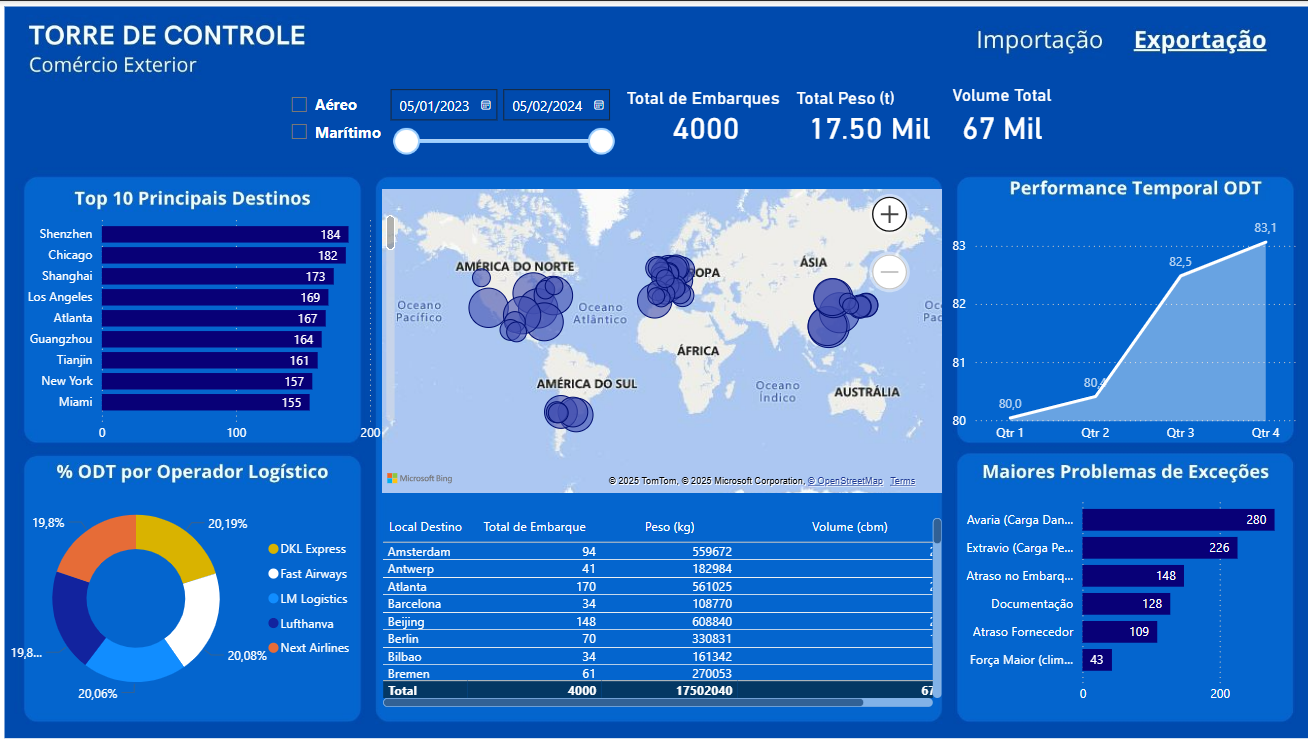

The page's visual inventory and layout, read from the dashboard file:
{"tool":"powerbi","page":{"name":"Exportação","canvas":[1280,720],"ordinal":1},"visuals":[{"type":"image","box":[0,0,1280,720],"z":0},{"type":"tableEx","fields":{"Values":["Histórico Exportação.Local Destino","CountNonNull(Histórico Exportação.No. Invoice)","Sum(Histórico Exportação.Peso (kg))","Sum(Histórico Exportação.Volume (cbm))","Histórico Exportação.% ODT"]},"box":[366.1,496.9,553.3,193.8],"z":1},{"type":"map","fields":{"Category":["Histórico Exportação.Local Destino"],"Size":["Sum(Histórico Exportação.No. Invoice)"]},"box":[367.5,177.5,552.5,305],"z":2},{"type":"barChart","title":"Destino Top 10","fields":{"Y":["Count(Histórico Exportação.No. Invoice)"],"Category":["Histórico Exportação.Local Destino"]},"box":[11.6,195.5,377.7,241.8],"z":3},{"type":"donutChart","fields":{"Category":["Cadastros Operadores Logísticos.Operador Logístico"],"Y":["Histórico Exportação.% ODT"]},"box":[0,445.6,354.5,268.3],"z":4},{"type":"barChart","fields":{"Category":["Cadastros Excessões.Descrição Desvio"],"Y":["CountNonNull(Histórico Exportação.Cód. Exceção)"]},"box":[921,468.8,357.8,222],"z":5},{"type":"lineChart","fields":{"Category":["Histórico Exportação.Data da Coleta.Variation.Hierarquia de datas.Ano","Histórico Exportação.Data da Coleta.Variation.Hierarquia de datas.Trimestre","Histórico Exportação.Data da Coleta.Variation.Hierarquia de datas.Mês","Histórico Exportação.Data da Coleta.Variation.Hierarquia de datas.Dia"],"Y":["Histórico Exportação.% ODT"]},"box":[919.3,195.5,347.9,241.8],"z":6},{"type":"slicer","fields":{"Values":["Histórico Exportação.Tipo"]},"box":[270,81.2,119.3,69.6],"z":7},{"type":"slicer","fields":{"Values":["Histórico Exportação.Data da Entrega"]},"box":[366.1,76.2,238.5,79.5],"z":8},{"type":"card","title":"Total de Embarques","fields":{"Values":["CountNonNull(Histórico Exportação.No. Invoice)"]},"box":[604.6,84.5,164,54.7],"z":9},{"type":"card","title":"Total Peso (t)","fields":{"Values":["Histórico Exportação.Peso em Ton"]},"box":[768.6,84.5,152.4,54.7],"z":10},{"type":"card","title":"Volume Total","fields":{"Values":["Sum(Histórico Exportação.Volume (cbm))"]},"box":[919.3,81.2,107.7,59.6],"z":11},{"type":"actionButton","box":[940.8,25,135,30.8],"z":12}]}

Visuals, with their boxes in screenshot pixels (x1, y1, x2, y2), scaled from the page's 1280x720 canvas onto the 1308x743 screenshot:
image: [0,0,1307,742]
tableEx - Histórico Exportação.Local Destino x CountNonNull(Histórico Exportação.No. Invoice): [374,513,940,713]
map - Histórico Exportação.Local Destino x Sum(Histórico Exportação.No. Invoice): [376,183,940,498]
"Destino Top 10" barChart: [12,202,398,451]
donutChart - Cadastros Operadores Logísticos.Operador Logístico x Histórico Exportação.% ODT: [0,460,362,737]
barChart - Cadastros Excessões.Descrição Desvio x CountNonNull(Histórico Exportação.Cód. Exceção): [941,484,1307,713]
lineChart - Histórico Exportação.Data da Coleta.Variation.Hierarquia de datas.Ano x Histórico Exportação.Data da Coleta.Variation.Hierarquia de datas.Trimestre: [939,202,1295,451]
slicer - Histórico Exportação.Tipo: [276,84,398,156]
slicer - Histórico Exportação.Data da Entrega: [374,79,618,161]
"Total de Embarques" card: [618,87,785,144]
"Total Peso (t)" card: [785,87,941,144]
"Volume Total" card: [939,84,1049,145]
actionButton: [961,26,1099,58]
